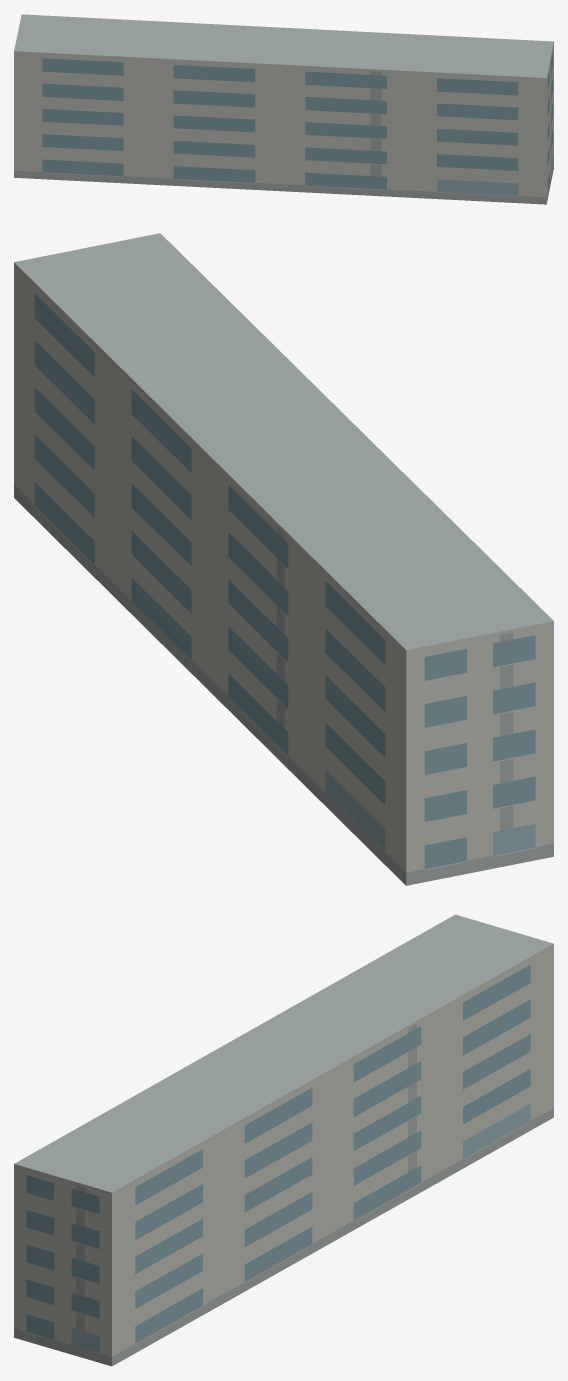
File: survey-upis-32506186.glb
The picture shows the model from 3 angles, top to bottom: view 1: azimuth 30°, elevation 25°; view 2: azimuth 150°, elevation 25°; view 3: azimuth 270°, elevation 25°; orthographic projection. The views are drawn at different scales.
Parts seen in each view (by area): view 1: survey-upis-32506186.tmp; view 2: survey-upis-32506186.tmp; view 3: survey-upis-32506186.tmp.
Part boxes in pixels (left/top/right/bottom): survey-upis-32506186.tmp: left=14, top=14, right=553, bottom=204; survey-upis-32506186.tmp: left=14, top=233, right=553, bottom=885; survey-upis-32506186.tmp: left=14, top=914, right=553, bottom=1366.
Size of the model in its own units: 52.33 by 15.25 by 42.93.
